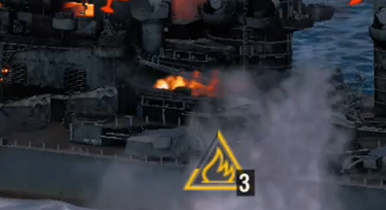3fire: (180, 154, 257, 198)
